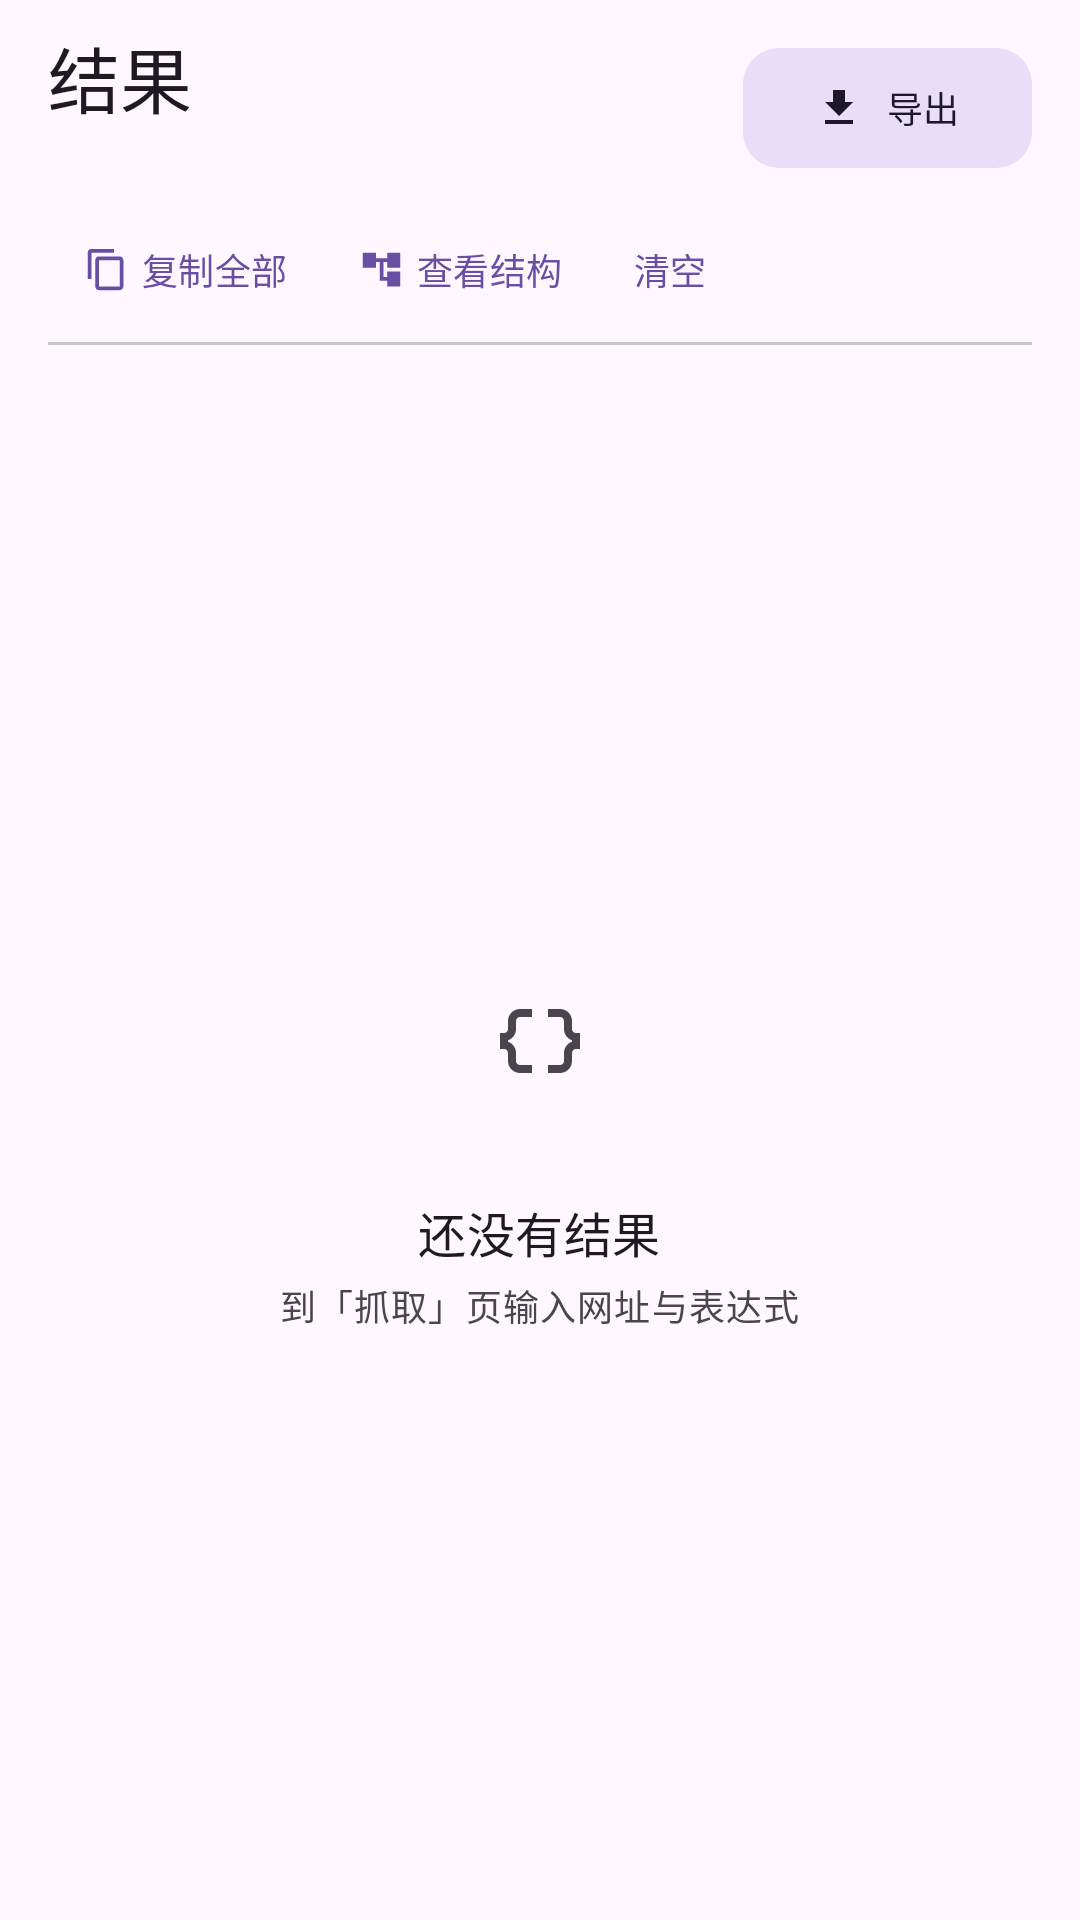

Named icons in this screenshot (1080 × 1920) and their centers, point (x, y):
data object: point (540, 1041)
